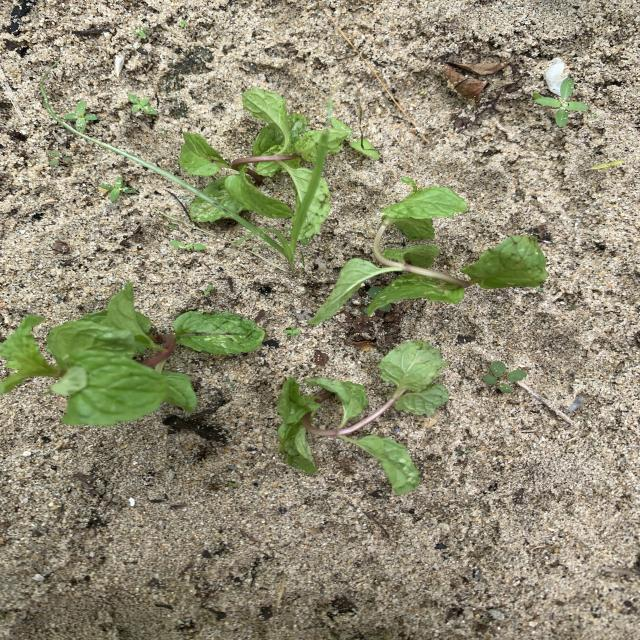crop: (0, 284, 263, 426), (310, 178, 546, 322), (278, 340, 447, 493), (243, 89, 324, 198), (203, 174, 289, 217), (179, 133, 229, 177), (300, 180, 329, 240), (190, 197, 229, 222), (328, 120, 349, 153)
weed: (66, 125, 326, 267), (533, 78, 588, 125), (482, 361, 526, 391), (64, 100, 98, 131), (99, 177, 135, 200), (128, 94, 157, 115), (169, 241, 205, 251), (49, 151, 71, 164), (591, 160, 623, 168), (132, 27, 147, 39), (284, 327, 299, 335), (204, 285, 211, 295)
